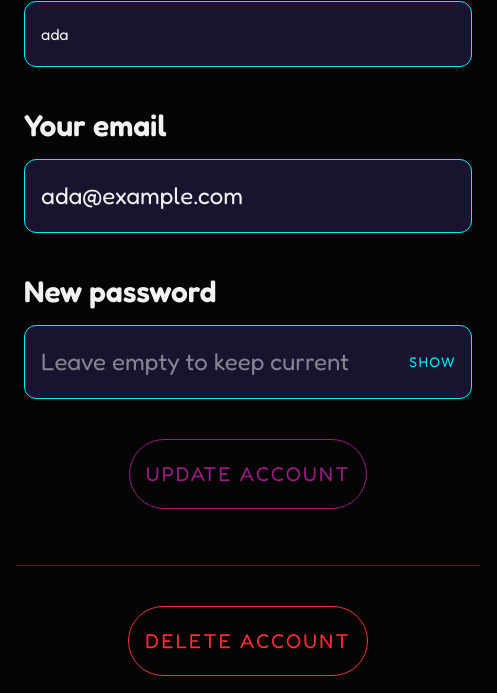
Test case: Profile page › asks for confirmation before deleting and lets the user cancel
This screenshot has width=497, height=693.
(page scrolled)
Check: the button "Yes, delete it" is not shown
What coordinates should you click on to do the following:
click the button "Delete account"
I would click on:
 (248, 641)
Its box is [128, 606, 368, 676].
(page scrolled)
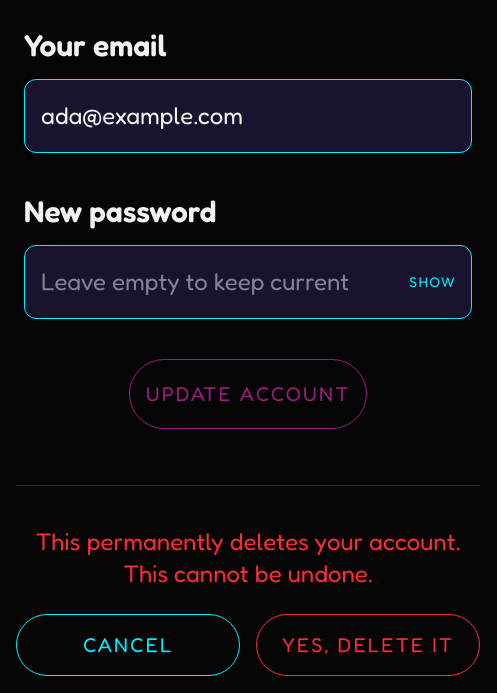
Check: the text "cannot be undone" is shown, box [35, 527, 460, 588]
Check: the button "Yes, delete it" is shown, box [256, 614, 480, 676]
Check: the button "Delete account" is gone
What coordinates should you click on to do the following:
click the button "Cancel"
I would click on:
 (128, 645)
Its box is [16, 614, 240, 676].
(page scrolled)
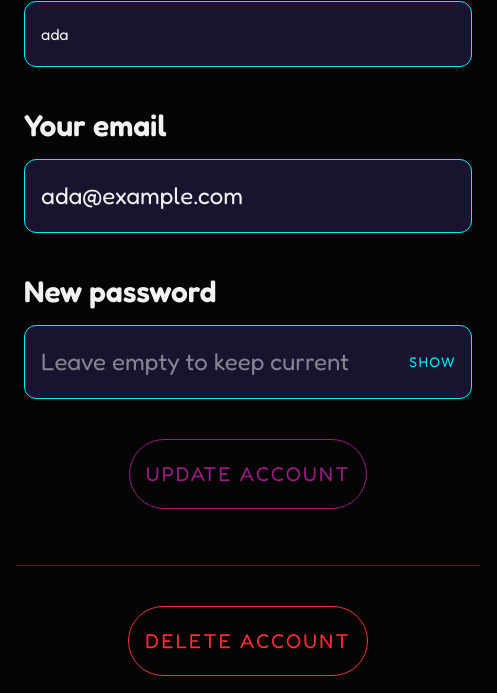
Check: the button "Delete account" is shown, box [128, 606, 368, 676]
Check: the button "Yes, delete it" is gone
